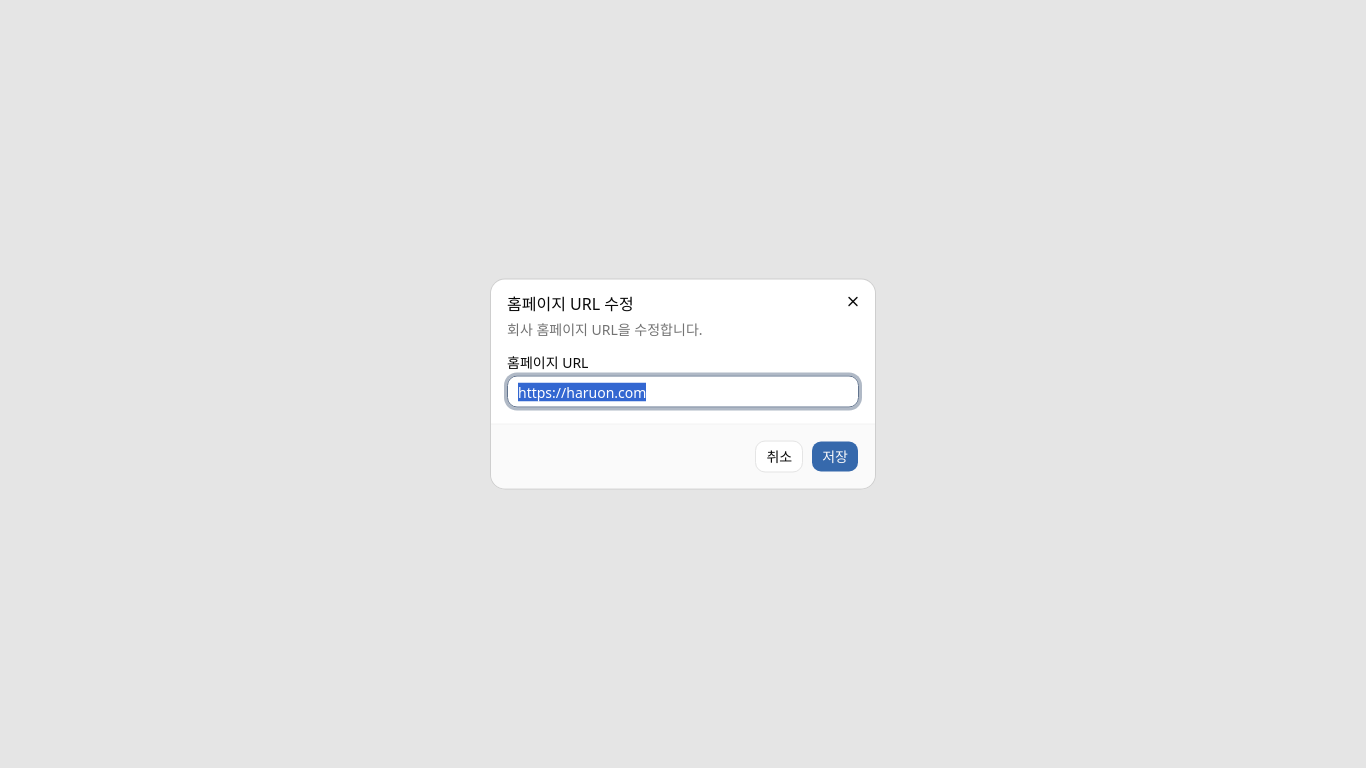
Test: CompanyHomePageEditDialog › 프리필값 그대로 제출(무변경)하면 root 에러를 노출하고 요청을 보내지 않는다
Click the button "저장".
click(835, 456)  # box [811,440,859,472]
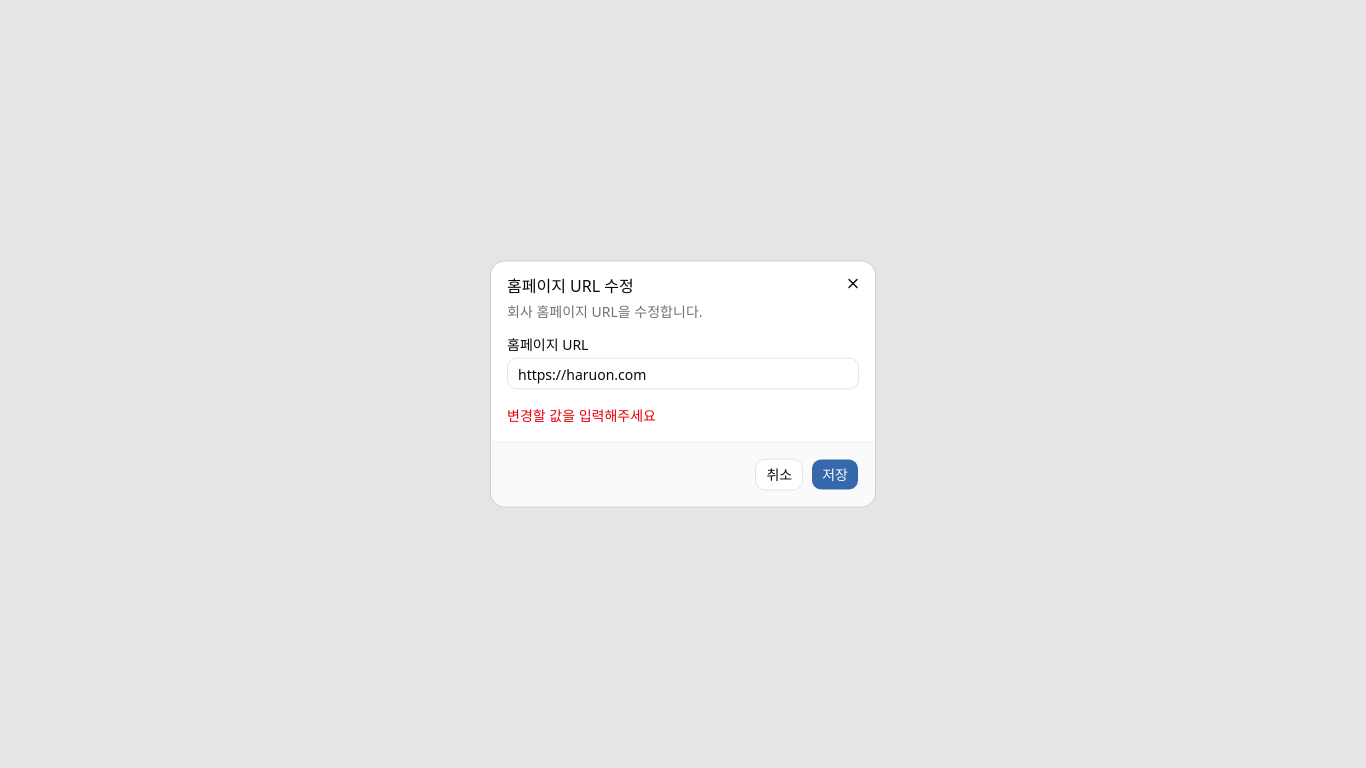
Now the text "변경할 값을 입력해주세요" is shown, box [507,406,656,424]
